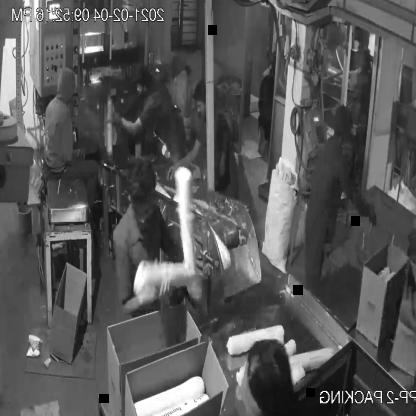glove: (128, 261, 181, 316)
no_glove: (387, 290, 416, 350), (103, 105, 141, 144), (168, 131, 202, 174), (347, 189, 379, 233)
